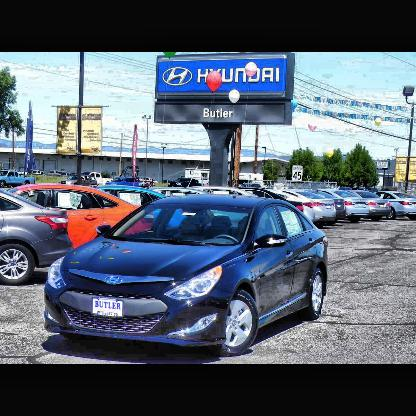Hyundai Sonata Hybrid Sedan 2012: (46, 196, 329, 357)
